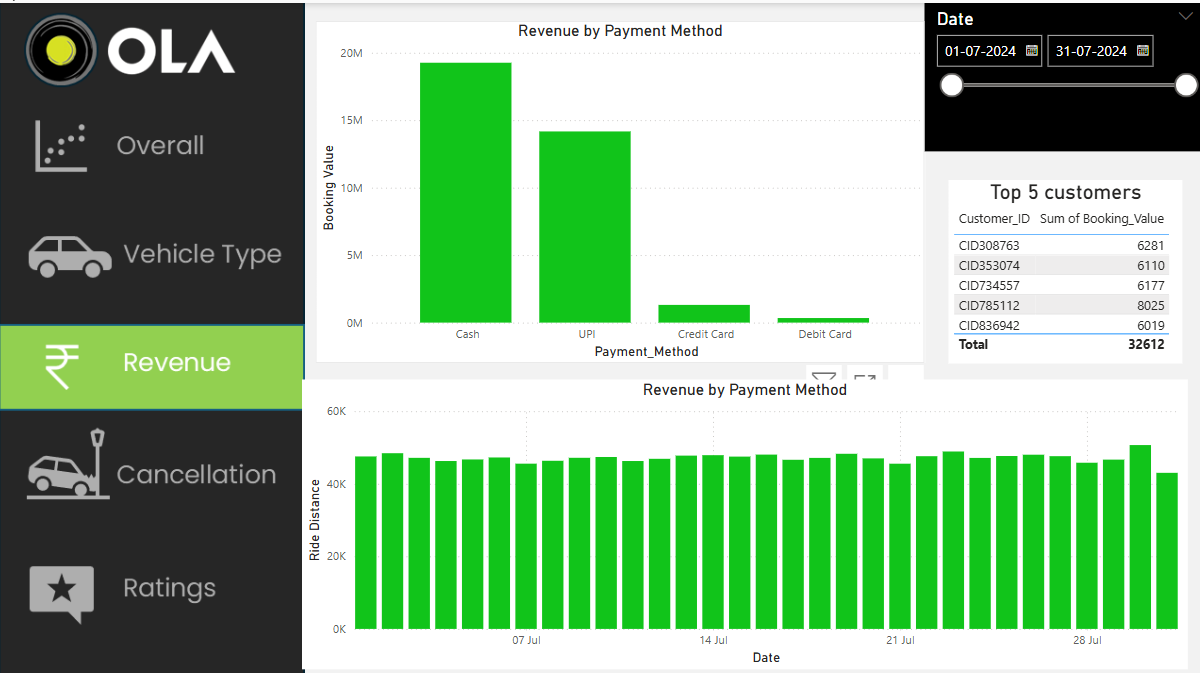

Layout of this report page (visuals, bound fields, positions):
{"tool":"powerbi","page":{"name":"revenue","canvas":[1280,720],"ordinal":2},"visuals":[{"type":"actionButton","box":[0,217.9,321.3,90.7],"z":0},{"type":"actionButton","box":[0,111.3,321.3,90.7],"z":1000},{"type":"actionButton","box":[0,445.4,321.3,89.1],"z":2000},{"type":"actionButton","box":[0,574.2,321.3,93.8],"z":3000},{"type":"columnChart","title":"Revenue by Payment Method","fields":{"Y":["Sum(July.Booking_Value)"],"Category":["July.Payment_Method"]},"box":[335.7,19.6,646.4,362.5],"z":4000},{"type":"columnChart","title":"Revenue by Payment Method","fields":{"Y":["Sum(July.Ride_Distance)"],"Category":["July.Date"]},"box":[321.4,400,939.3,307.1],"z":5000},{"type":"slicer","fields":{"Values":["July.Date"]},"box":[982.1,0,298.2,157.1],"z":6000},{"type":"tableEx","title":"Top 5 customers","fields":{"Values":["July.Customer_ID","Sum(July.Booking_Value)"]},"box":[1007.1,187.5,248.2,194.6],"z":7000}]}

Visuals, with their boxes in screenshot pixels (x1, y1, x2, y2), scaled from the page's 1280x720 canvas onto the 1200x673 screenshot:
actionButton: left=0, top=204, right=301, bottom=288
actionButton: left=0, top=104, right=301, bottom=189
actionButton: left=0, top=416, right=301, bottom=500
actionButton: left=0, top=537, right=301, bottom=624
"Revenue by Payment Method" columnChart: left=315, top=18, right=921, bottom=357
"Revenue by Payment Method" columnChart: left=301, top=374, right=1182, bottom=661
slicer - July.Date: left=921, top=0, right=1199, bottom=147
"Top 5 customers" tableEx: left=944, top=175, right=1177, bottom=357
